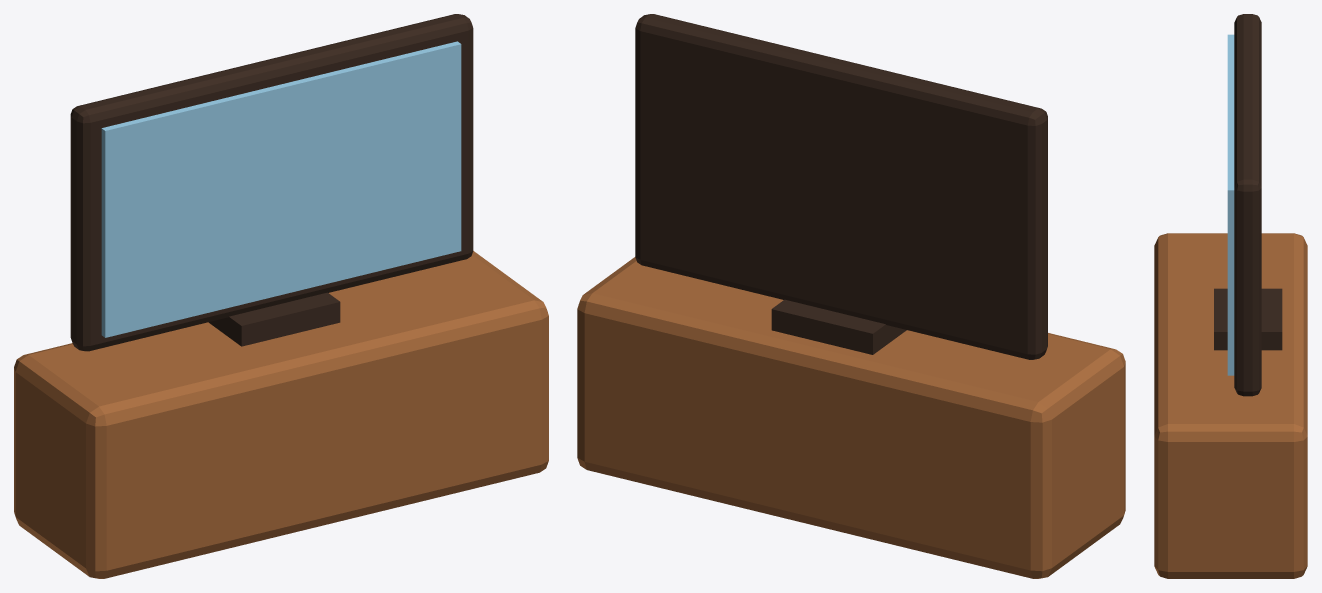
File: int_tv.fbx
The picture shows the model from 3 angles, left to right: view 1: azimuth 30°, elevation 25°; view 2: azimuth 150°, elevation 25°; view 3: azimuth 270°, elevation 25°; orthographic projection. The views are drawn at different scales.
Parts seen in each view (by area): view 1: int_tv; view 2: int_tv; view 3: int_tv.
Part boxes in pixels (box(x1,y1,x2,y2)): int_tv: box(14, 14, 548, 578); int_tv: box(577, 14, 1125, 578); int_tv: box(1154, 14, 1307, 578).
Bounding box in the file's own units: 140 × 125 × 45.
1 material, 1 textured.
